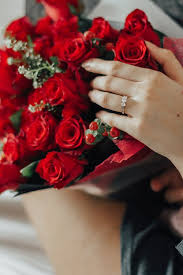rose: (25, 93, 83, 192), (45, 17, 153, 66)
